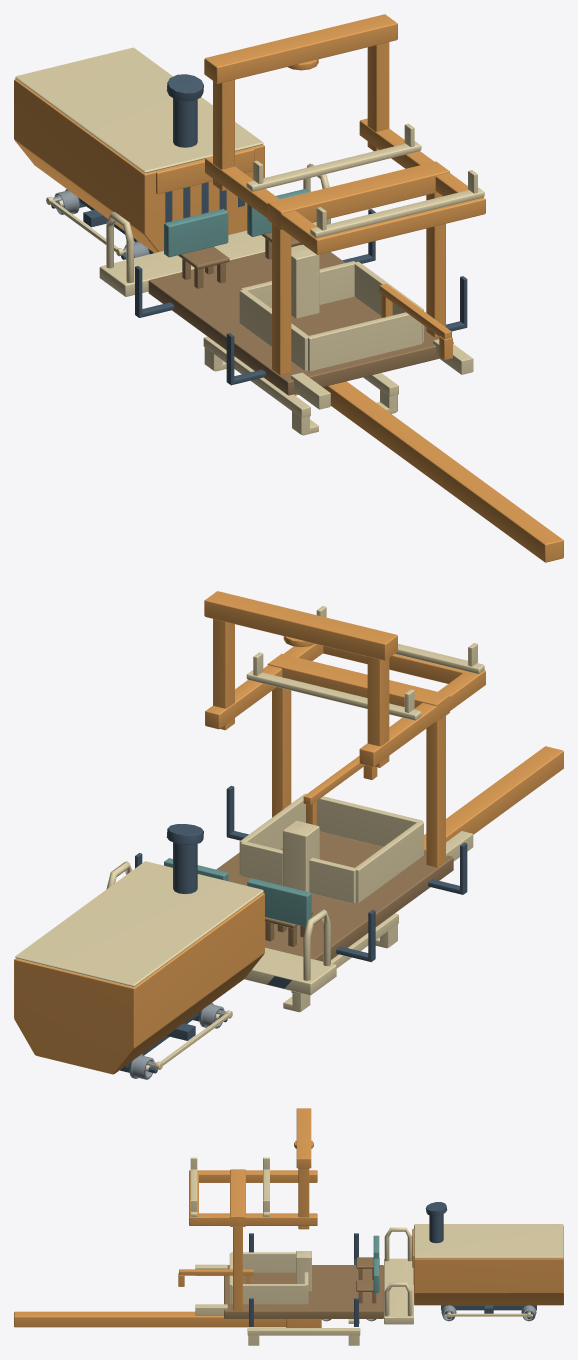
File: track-layer.glb
3 renders of one model, top to bottom at view 1: azimuth 30°, elevation 25°; view 2: azimuth 150°, elevation 25°; view 3: azimuth 270°, elevation 25°, orthographic. The views are drawn at different scales.
Parts seen in each view (by area): view 1: deck_gantry, deck_cream, power_paint, power_trim, deck_wood, lay_gantry_beam, chair_teal, power_iron, deck_iron, lay_cream_jaw_left, lay_cream_upper, chair_wood (+1 smaller); view 2: deck_gantry, power_paint, deck_cream, power_trim, deck_wood, lay_gantry_beam, deck_iron, chair_teal, lay_cream_upper, power_iron, lay_cream_jaw_left, power_bogie (+1 smaller); view 3: power_paint, deck_gantry, deck_cream, deck_wood, power_trim, lay_gantry_beam, lay_cream_jaw_right, power_iron, chair_wood, deck_iron, power_bogie, lay_cream_upper (+3 smaller).
Part boxes in pixels (bbox=[...]): deck_gantry: bbox=[204, 14, 485, 375]; deck_cream: bbox=[99, 123, 484, 409]; power_paint: bbox=[14, 79, 264, 252]; power_trim: bbox=[15, 47, 263, 173]; deck_wood: bbox=[148, 245, 453, 395]; lay_gantry_beam: bbox=[323, 381, 563, 562]; chair_teal: bbox=[164, 188, 310, 257]; power_iron: bbox=[165, 74, 244, 222]; deck_iron: bbox=[135, 209, 467, 385]; lay_cream_jaw_left: bbox=[203, 336, 318, 435]; lay_cream_upper: bbox=[291, 244, 319, 318]; chair_wood: bbox=[178, 232, 302, 288]; deck_gantry: bbox=[204, 591, 485, 867]; power_paint: bbox=[14, 892, 264, 1074]; deck_cream: bbox=[106, 606, 484, 995]; power_trim: bbox=[15, 861, 263, 987]; deck_wood: bbox=[216, 831, 453, 961]; lay_gantry_beam: bbox=[424, 746, 563, 849]; deck_iron: bbox=[135, 785, 467, 988]; chair_teal: bbox=[164, 858, 311, 926]; lay_cream_upper: bbox=[282, 820, 319, 891]; power_iron: bbox=[166, 824, 203, 894]; lay_cream_jaw_left: bbox=[283, 913, 398, 1012]; power_bogie: bbox=[120, 1011, 227, 1073]; power_paint: bbox=[412, 1226, 563, 1305]; deck_gantry: bbox=[178, 1108, 317, 1310]; deck_cream: bbox=[190, 1157, 413, 1324]; deck_wood: bbox=[224, 1265, 383, 1318]; power_trim: bbox=[414, 1224, 563, 1258]; lay_gantry_beam: bbox=[14, 1311, 286, 1327]; lay_cream_jaw_right: bbox=[247, 1328, 360, 1345]; power_iron: bbox=[413, 1202, 447, 1284]; chair_wood: bbox=[356, 1257, 379, 1303]; deck_iron: bbox=[249, 1233, 358, 1326]; power_bogie: bbox=[441, 1305, 536, 1318]; lay_cream_upper: bbox=[296, 1251, 311, 1291].
Bounding box in the file's own units: 3.13 × 4.4 × 11.
